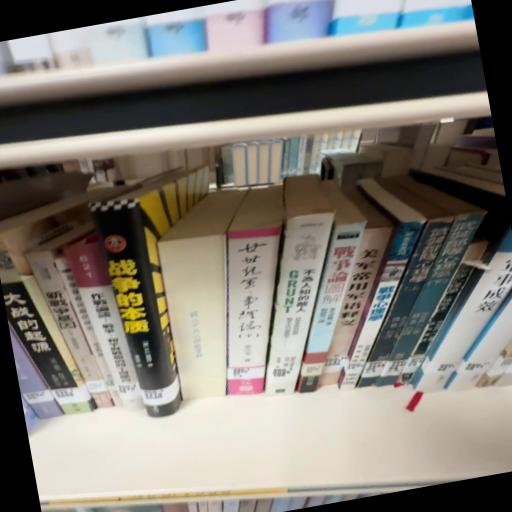backward: (158, 191, 248, 401)
